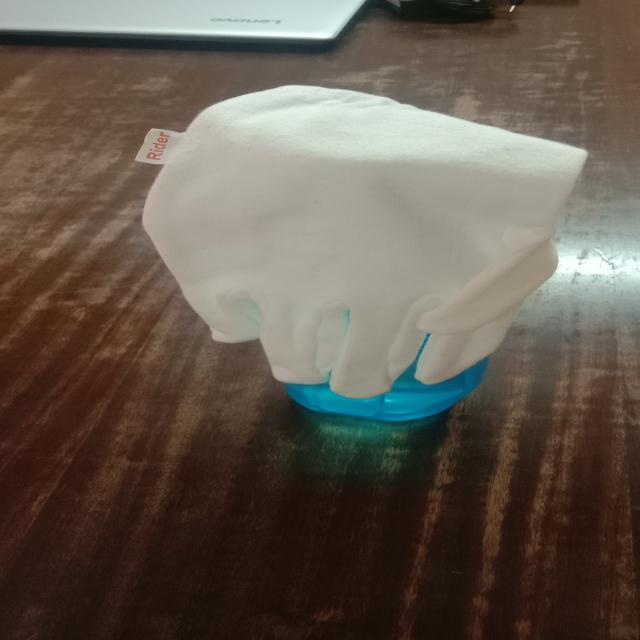glove_hand: (123, 83, 600, 400)
